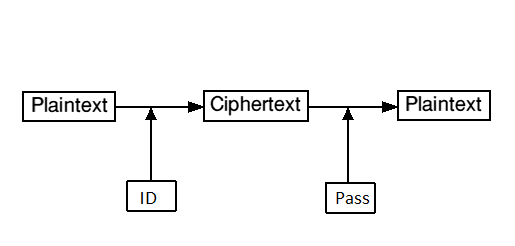arrow: (308, 99, 398, 114), (115, 101, 205, 115), (142, 107, 158, 180), (341, 107, 355, 183)
process: (201, 88, 312, 124), (395, 87, 493, 123), (19, 89, 117, 124), (323, 180, 378, 216), (124, 178, 179, 214)
text: (209, 94, 305, 117), (403, 94, 484, 115), (29, 95, 109, 115), (332, 189, 370, 205), (138, 190, 157, 206)
